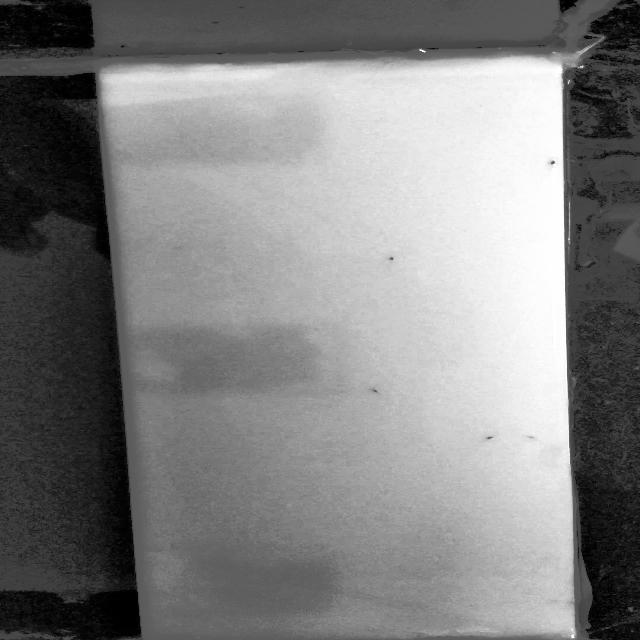shrimp: (472, 430, 506, 449), (356, 384, 396, 399), (377, 253, 408, 263)
